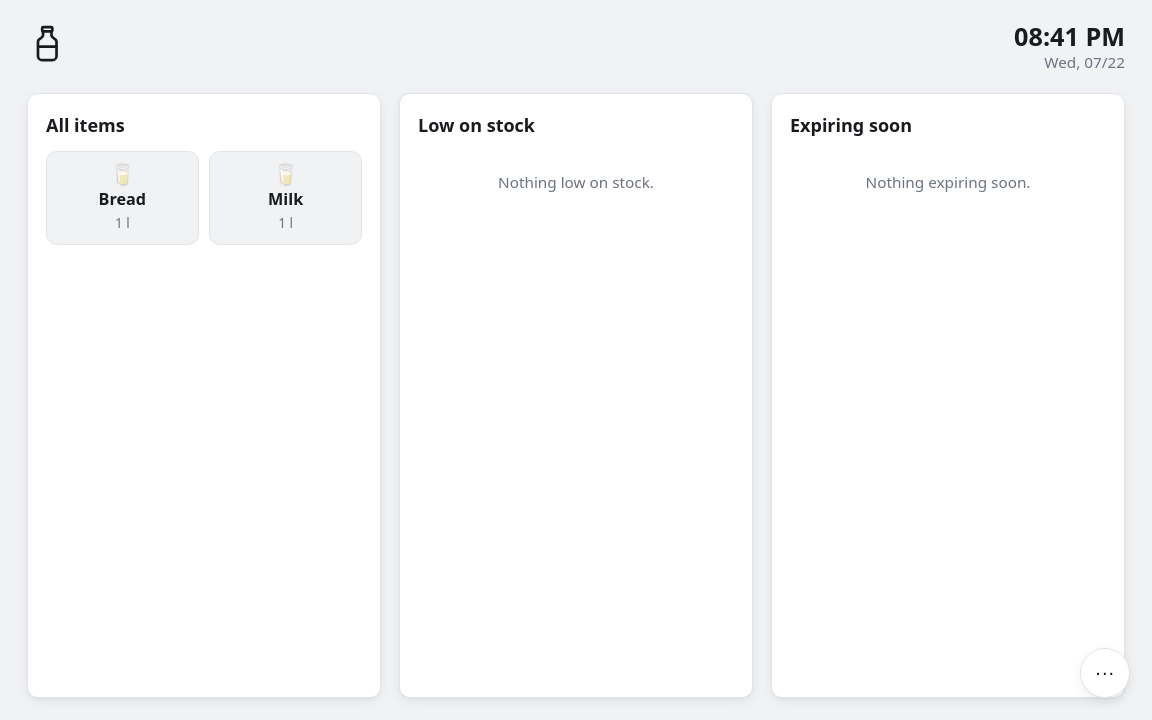
Test case: all items search › filters the all-items list by name
Click the button "···" at x=1105, y=673, box [1080,648,1130,698]
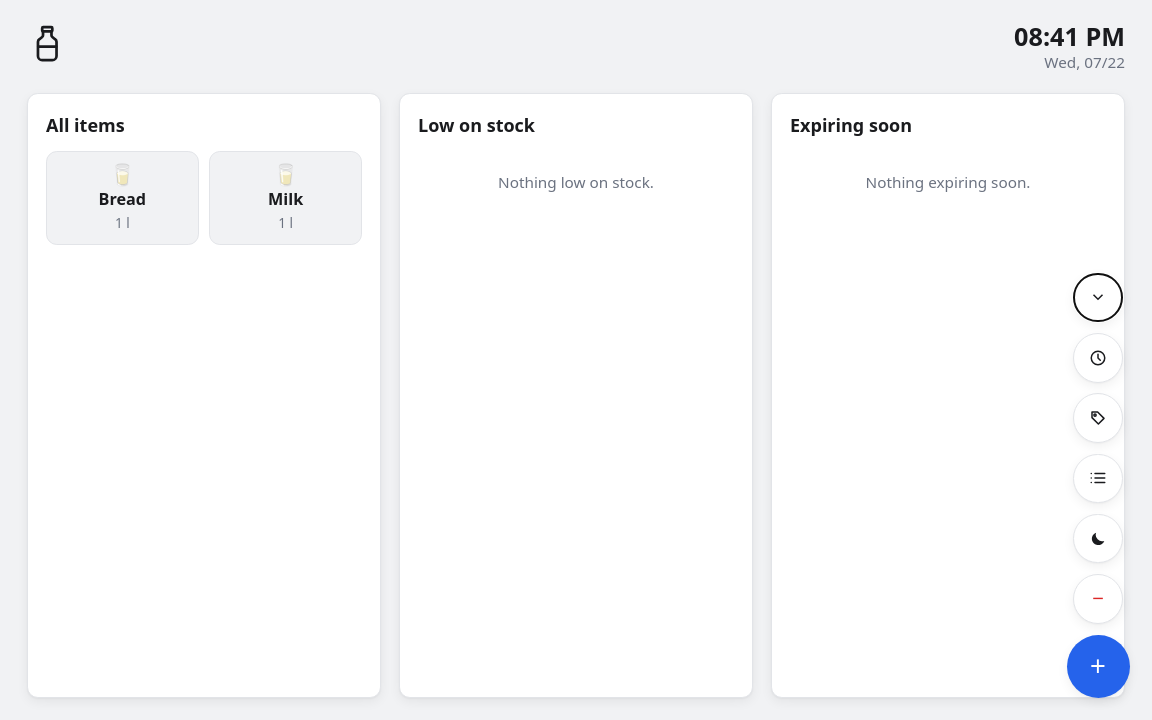
Click the button named "Show all items" at x=1098, y=478, box [1073,454,1123,503]
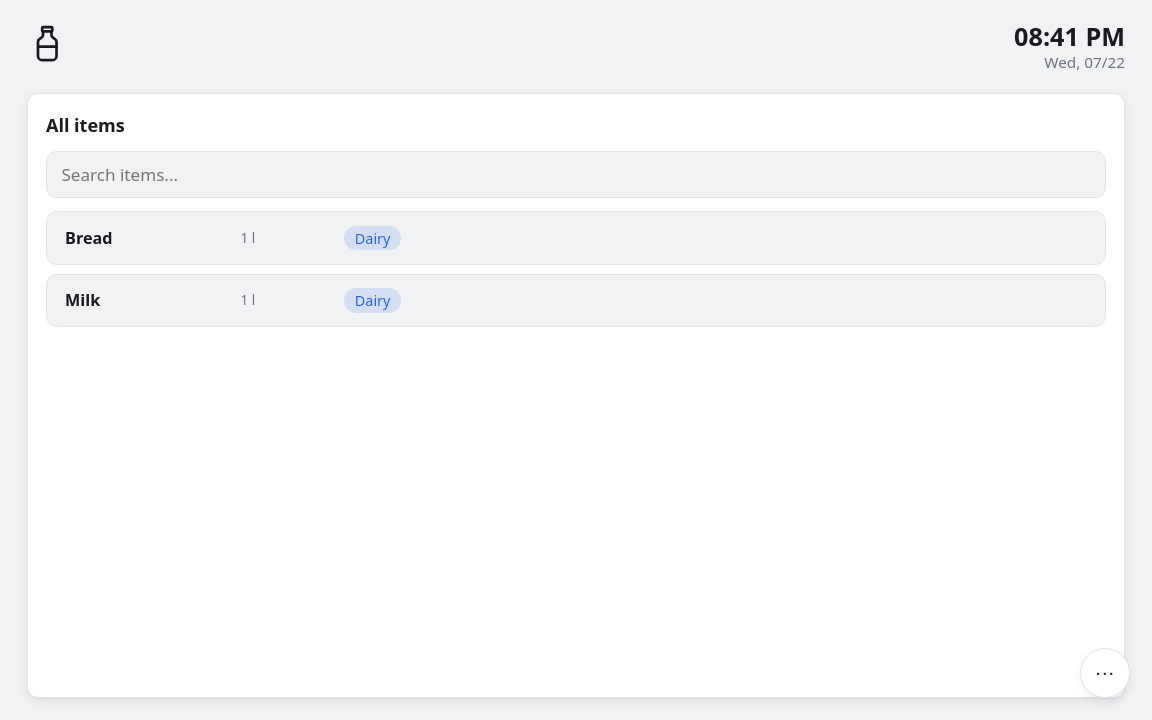
Expected: the text "Milk" is shown, [65,289,100,311]
Expected: the text "Bread" is shown, [65,227,112,249]
Type "mil" into the field with placeholder "Search items..." at x=576, y=175, box [46,151,1106,198]
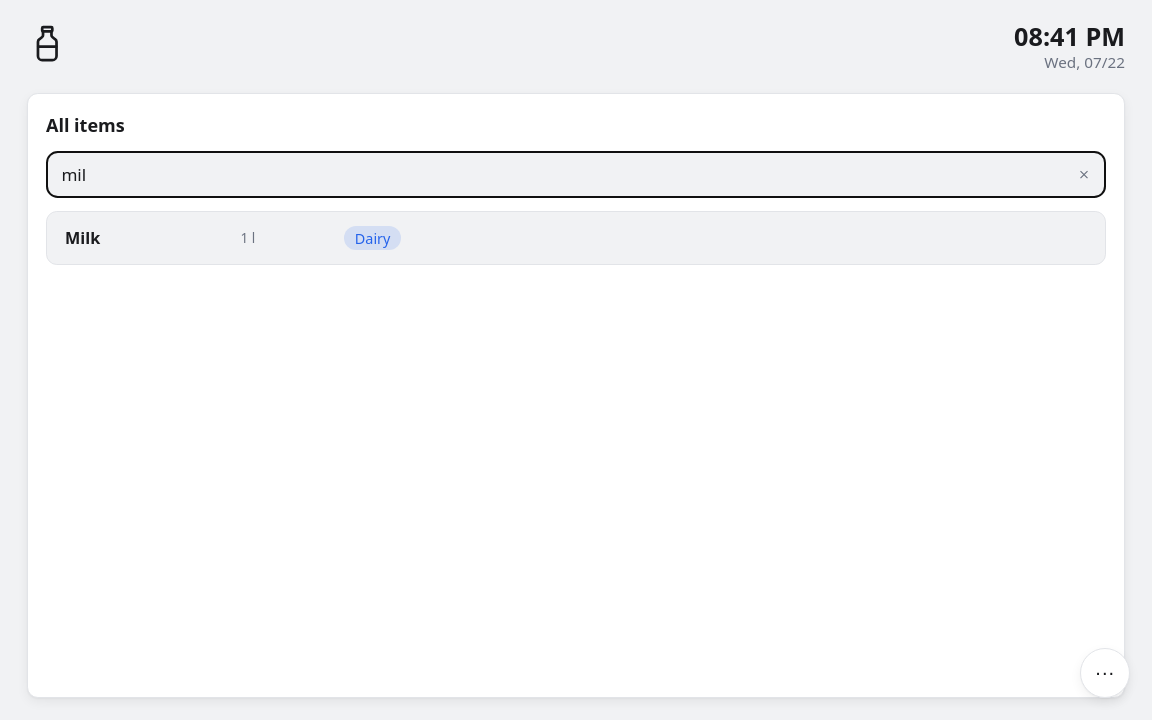
Expected: the text "Milk" is shown, [65,227,100,249]
Expected: the button "Bread" is gone
